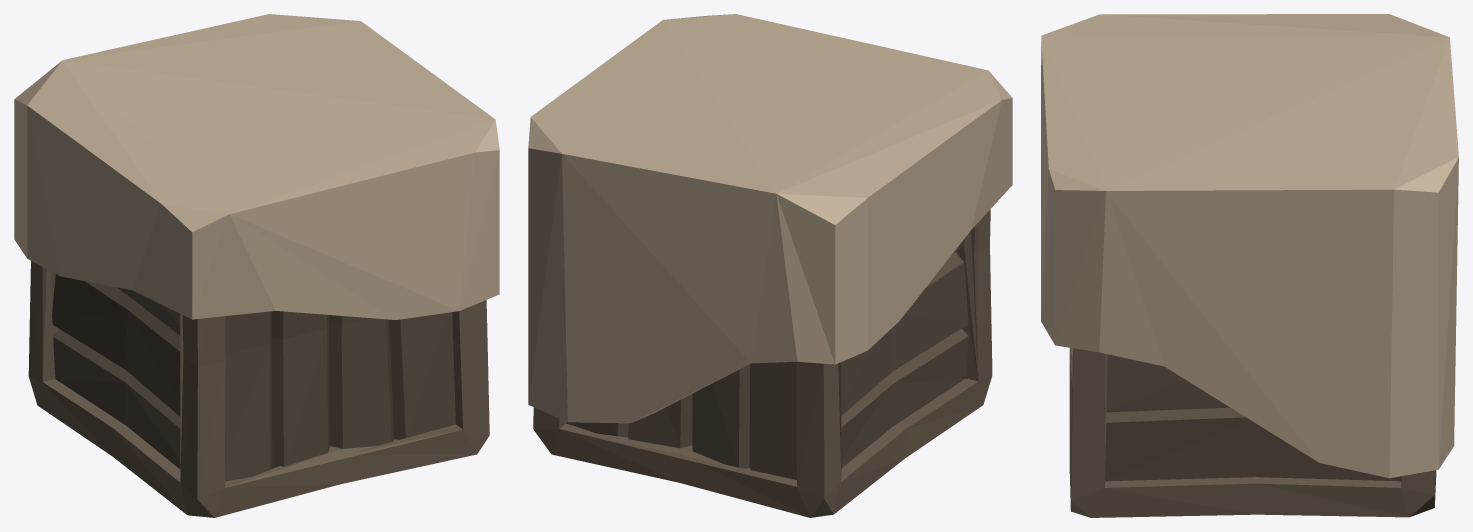
The model's file is SM_Prop_Crate_06.glb.
The picture shows the model from 3 angles, left to right: view 1: azimuth 30°, elevation 25°; view 2: azimuth 150°, elevation 25°; view 3: azimuth 270°, elevation 25°; orthographic projection. The views are drawn at different scales.
Visible parts, largest first — view 1: SM_Prop_Crate_06_part00; view 2: SM_Prop_Crate_06_part00; view 3: SM_Prop_Crate_06_part00.
Boxes of the visible parts, box(x1,y1,x2,y2) form: SM_Prop_Crate_06_part00: box(14, 14, 499, 517); SM_Prop_Crate_06_part00: box(528, 14, 1012, 517); SM_Prop_Crate_06_part00: box(1041, 14, 1458, 517).
Bounding box in the file's own units: 0.965 × 0.8886 × 0.9624.
1 material, 1 textured.
